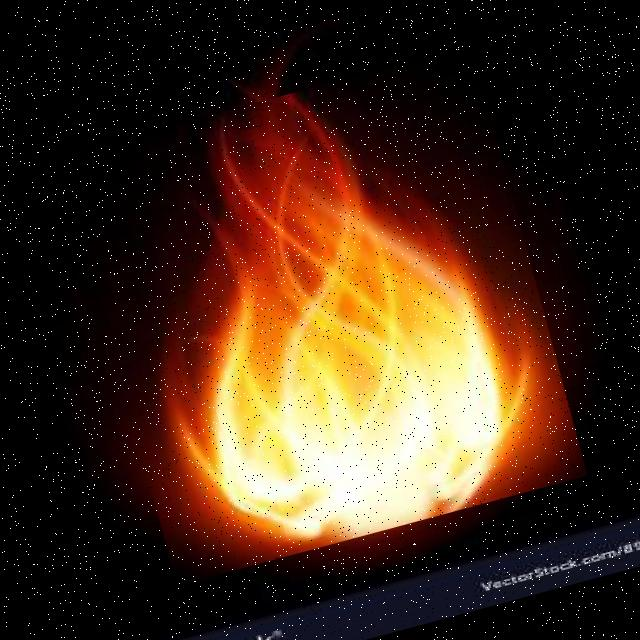fire: (62, 44, 588, 585)
